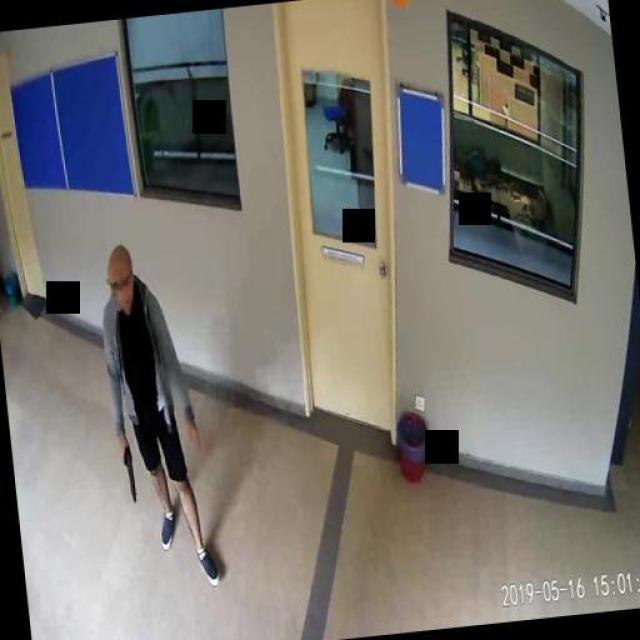gun: (119, 442, 138, 502)
